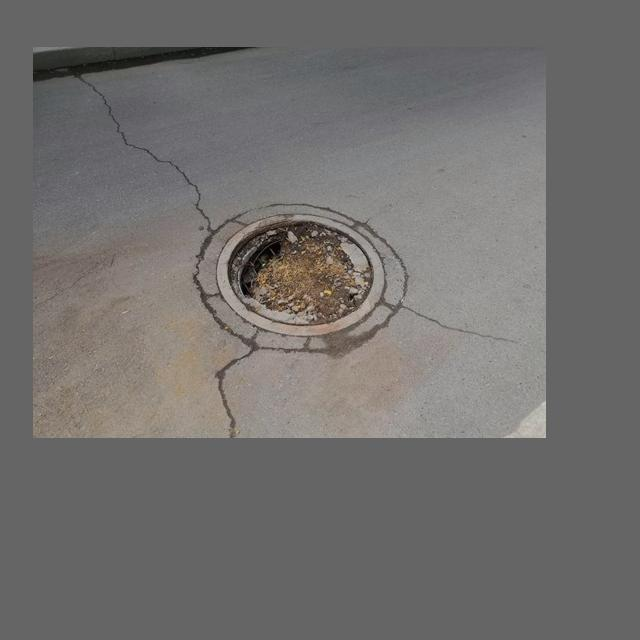broke: (182, 194, 402, 362)
